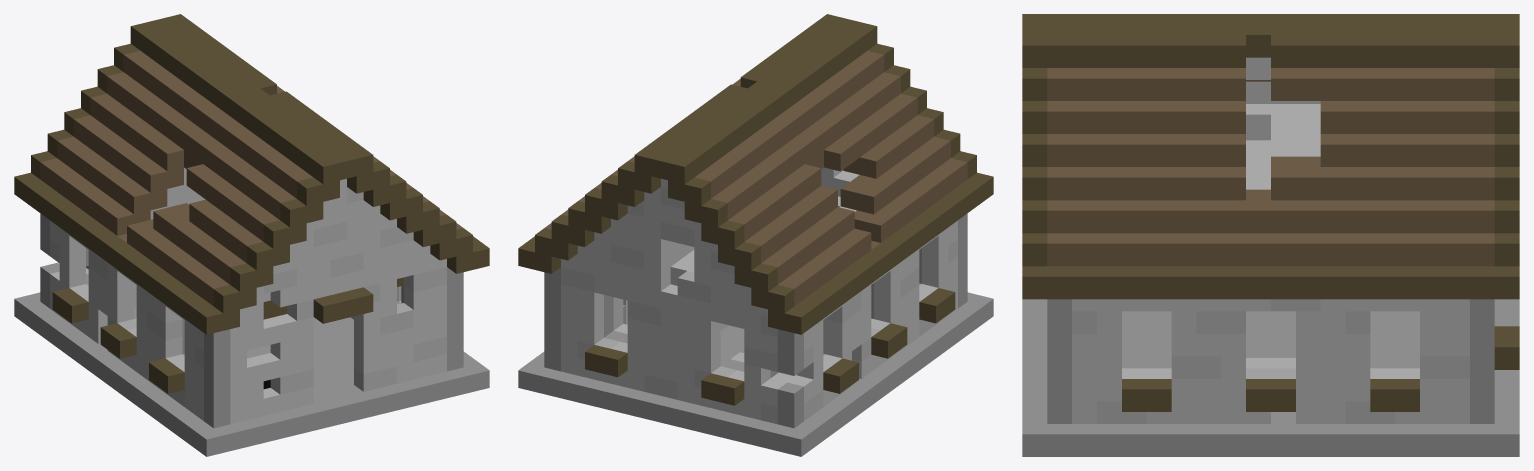
File: casa de madeira.obj
3 renders of one model, left to right at view 1: azimuth 30°, elevation 25°; view 2: azimuth 150°, elevation 25°; view 3: azimuth 270°, elevation 25°, orthographic. The views are drawn at different scales.
Bounding box in the file's own units: 1.7 × 1.5 × 2.
Materials: 1 (1 with a texture image).
